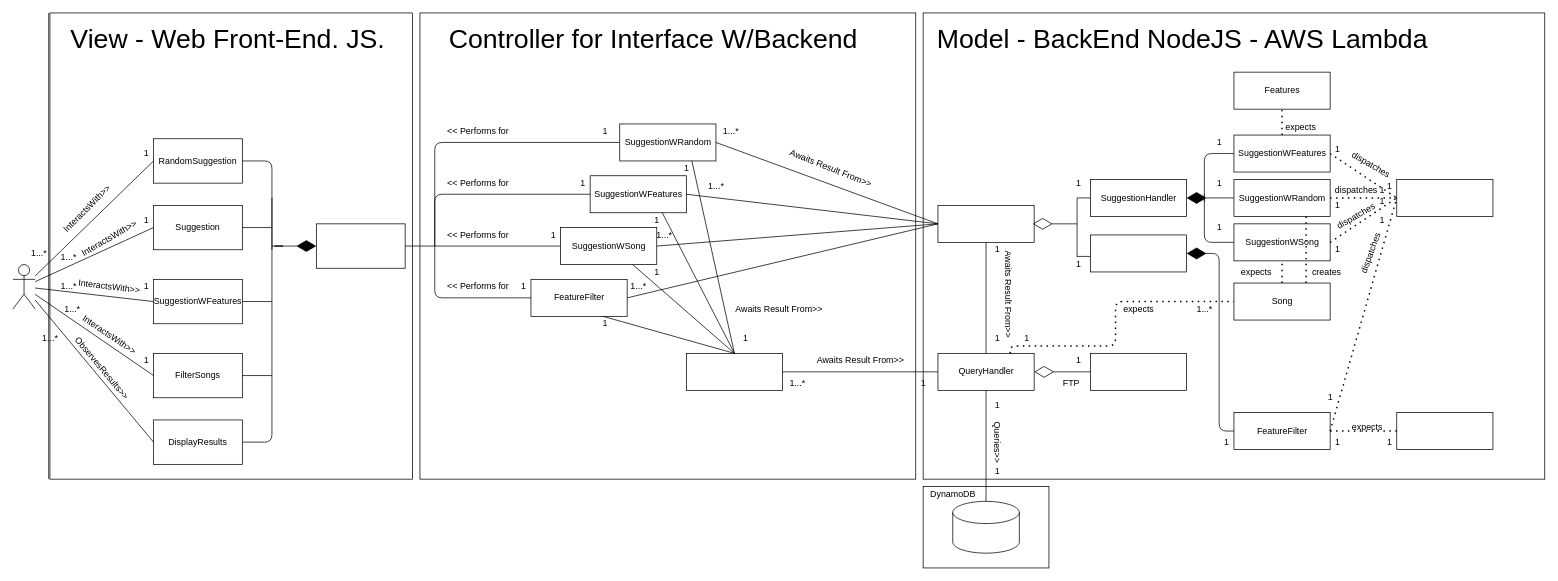
Image size: 1558x581. Some labels were removed from this diagram. Here are the shapes that lost their labels. From the top down, the centre of each, then its label:
the point at 1444,197: ReturnType
the point at 985,223: RequestHandler
the point at 360,245: WebApp
the point at 1138,253: FilterHandler
the point at 23,286: User
the point at 734,371: DatabaseCommander
the point at 1138,371: DownloadQueue
the point at 1444,431: FilterSpec
the point at 985,527: Database
